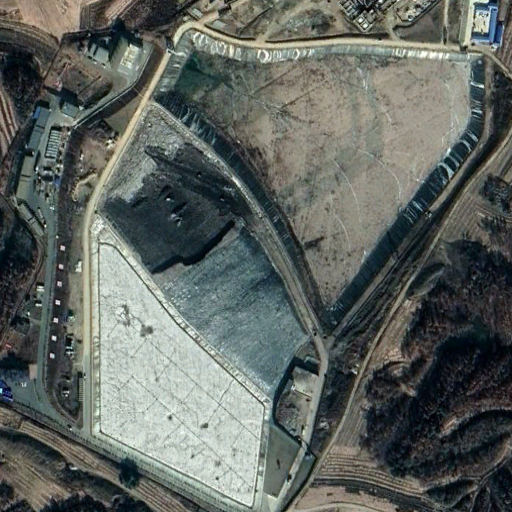lf: (89, 32, 493, 511)
